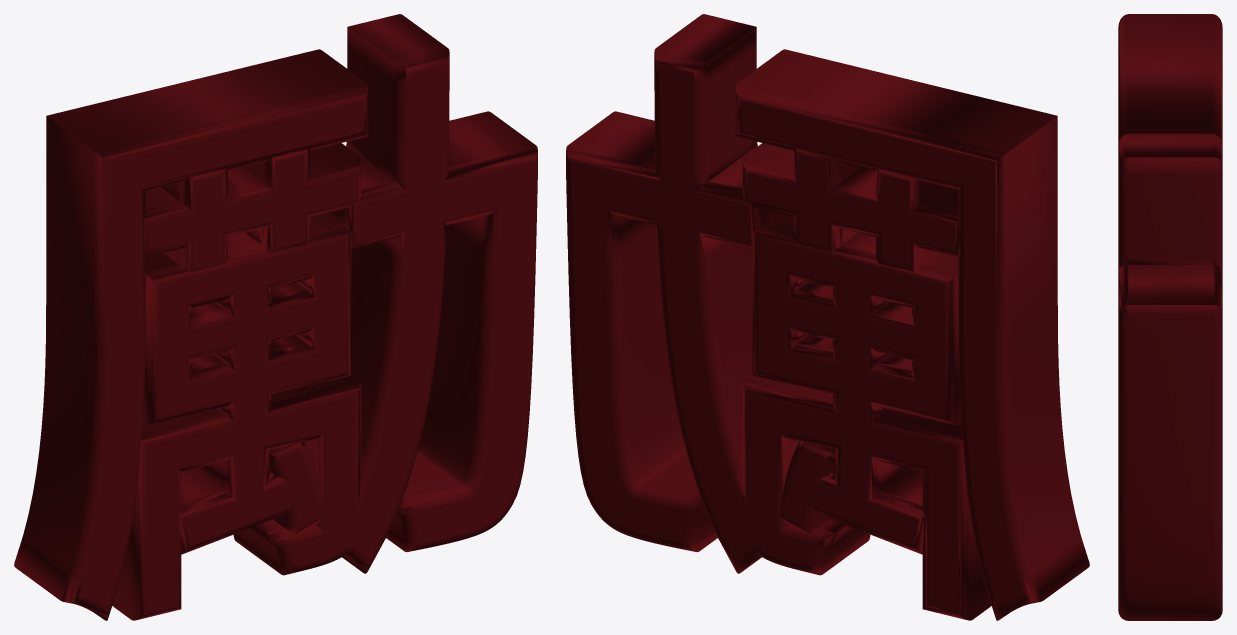
Rendered from MottoLai.fbx.
3 views of the same model, side by side, from view 1: azimuth 30°, elevation 25°; view 2: azimuth 150°, elevation 25°; view 3: azimuth 270°, elevation 25° (orthographic). The views are drawn at different scales.
Parts seen in each view (by area): view 1: 文本.122; view 2: 文本.122; view 3: 文本.122.
Boxes of the visible parts, x1,y1,x2,y2 form: 文本.122: (14,14,537,620); 文本.122: (566,14,1089,620); 文本.122: (1118,14,1222,620).
Bounding box in the file's own units: 95.82 × 20 × 97.23.
